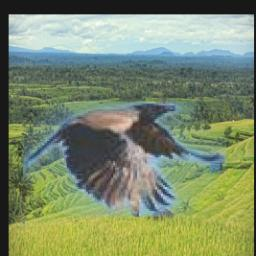Crow: (23, 102, 226, 217)
